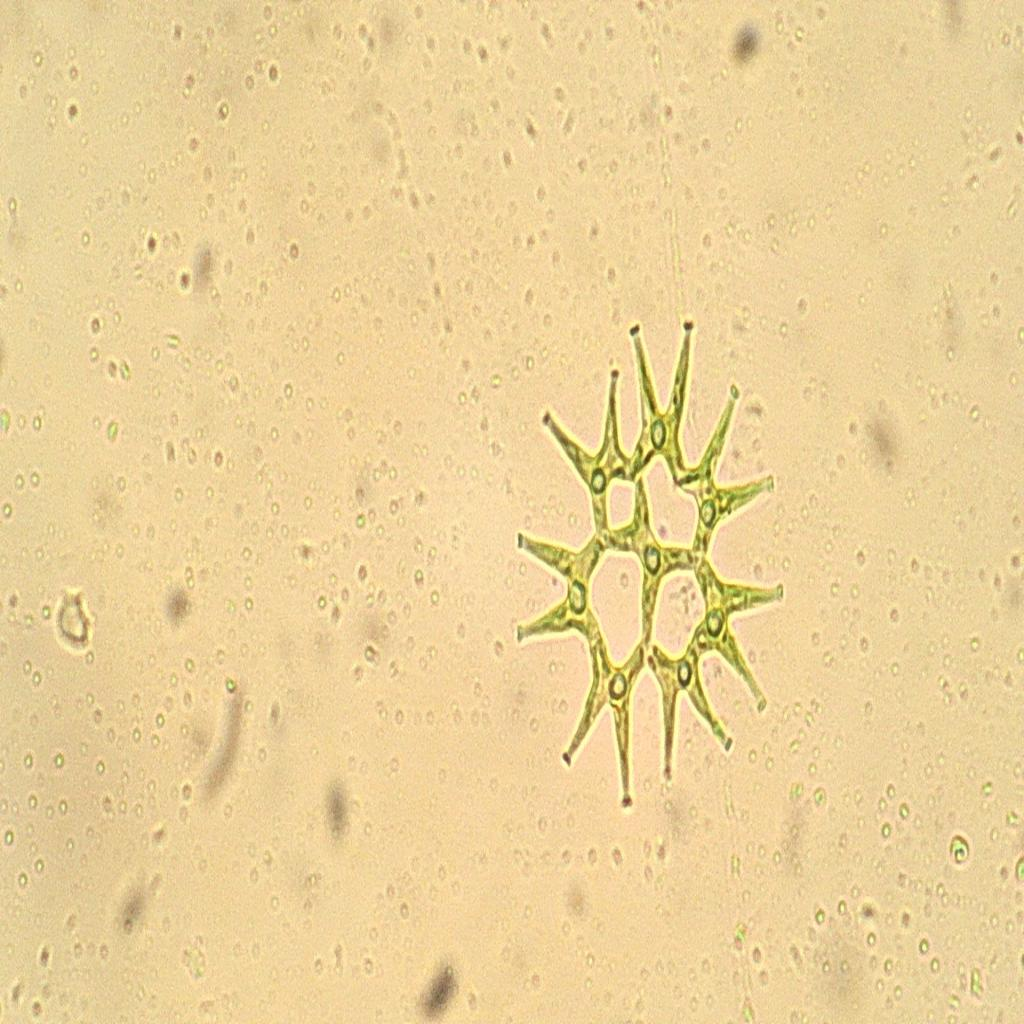Pediastrum_CTH: (502, 286, 791, 824)
